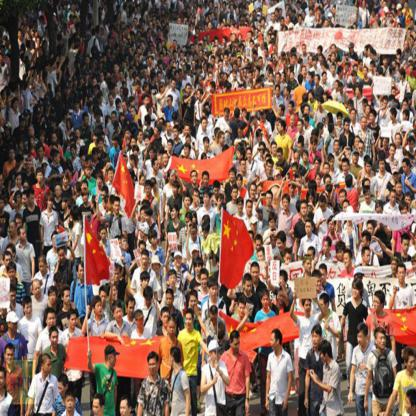face: (378, 333, 387, 349), (149, 359, 158, 375), (93, 400, 102, 416), (47, 316, 57, 330), (312, 332, 321, 347), (408, 357, 416, 373), (358, 331, 366, 347), (406, 399, 414, 415), (67, 397, 76, 411), (252, 268, 260, 283), (120, 404, 130, 416), (7, 351, 15, 366), (374, 298, 382, 312), (398, 269, 406, 283), (169, 323, 177, 337), (51, 334, 59, 348), (213, 348, 220, 363), (233, 340, 241, 353), (211, 287, 219, 300), (100, 293, 108, 306), (59, 385, 67, 398), (44, 361, 52, 374), (10, 319, 18, 332), (344, 255, 352, 268), (320, 300, 327, 314), (305, 301, 312, 315), (163, 313, 170, 327), (128, 303, 135, 317), (115, 308, 122, 322), (79, 266, 86, 280), (169, 275, 177, 287), (95, 303, 103, 315), (25, 304, 33, 316), (353, 285, 360, 298), (315, 278, 322, 291), (239, 304, 246, 317), (246, 282, 253, 295), (186, 316, 193, 329), (191, 298, 198, 311), (142, 256, 149, 269), (70, 316, 77, 329), (35, 284, 42, 297), (65, 292, 72, 305), (403, 241, 410, 254), (8, 270, 16, 281), (305, 260, 312, 272), (263, 295, 269, 309), (202, 276, 209, 288), (195, 263, 202, 275), (153, 261, 160, 273), (110, 355, 117, 367), (50, 292, 57, 304), (6, 258, 13, 270), (10, 293, 17, 305), (337, 249, 344, 261), (278, 240, 285, 252), (279, 277, 285, 290), (272, 337, 278, 350), (362, 238, 368, 251), (2, 304, 8, 317), (143, 280, 150, 291), (175, 255, 182, 266), (258, 254, 265, 265), (392, 261, 398, 273), (321, 271, 327, 283), (279, 293, 285, 305), (167, 295, 173, 307), (170, 355, 176, 367), (365, 252, 371, 264), (402, 206, 408, 218), (286, 255, 292, 267), (256, 241, 262, 253), (10, 224, 16, 236), (377, 207, 383, 219), (301, 206, 308, 216), (321, 353, 327, 364), (138, 317, 144, 328), (112, 289, 118, 300), (114, 271, 120, 282), (60, 253, 66, 264), (40, 263, 46, 274), (368, 226, 374, 237), (324, 244, 330, 255), (366, 191, 372, 202), (330, 221, 336, 232), (290, 186, 296, 197), (284, 200, 290, 211), (271, 236, 277, 247), (252, 222, 258, 233), (250, 187, 256, 198), (192, 230, 198, 241), (204, 195, 210, 206), (152, 236, 158, 247), (141, 246, 147, 257), (114, 202, 120, 213), (23, 196, 29, 207), (38, 172, 44, 183), (26, 161, 32, 172), (21, 231, 27, 242), (354, 153, 360, 164), (403, 162, 409, 173), (326, 180, 332, 191), (315, 160, 321, 171), (1, 374, 6, 387), (211, 317, 219, 325), (306, 224, 312, 234), (341, 194, 347, 204), (270, 219, 276, 229), (238, 202, 244, 212), (230, 172, 236, 182), (186, 220, 192, 230), (192, 174, 198, 184), (185, 198, 191, 208), (146, 186, 152, 196), (109, 172, 115, 182), (48, 198, 54, 208), (83, 193, 89, 203), (86, 166, 92, 176), (10, 150, 16, 160), (29, 128, 35, 138), (20, 118, 26, 128), (343, 164, 349, 174), (380, 162, 386, 172), (390, 148, 396, 158), (409, 141, 415, 151), (359, 146, 365, 156), (193, 250, 199, 260), (146, 296, 151, 307), (406, 197, 411, 208), (391, 194, 396, 205), (117, 240, 122, 251), (30, 195, 35, 206), (17, 221, 22, 232), (39, 149, 44, 160), (309, 251, 314, 262), (1, 200, 6, 211), (53, 237, 58, 248), (102, 231, 108, 240), (62, 200, 68, 209), (24, 185, 30, 194), (316, 177, 322, 186), (272, 145, 278, 154), (351, 112, 357, 121), (267, 195, 272, 205), (247, 205, 252, 215), (233, 190, 238, 200), (219, 200, 224, 210), (194, 193, 199, 203), (172, 209, 177, 219), (123, 240, 128, 250), (142, 213, 147, 223), (108, 201, 113, 211), (164, 156, 169, 166), (191, 215, 196, 225), (64, 176, 69, 186), (99, 141, 104, 151), (242, 162, 247, 172), (248, 152, 253, 162), (396, 136, 401, 146), (356, 140, 361, 150), (330, 159, 335, 169), (321, 204, 327, 212), (145, 214, 151, 222), (52, 136, 58, 144), (397, 185, 402, 194), (344, 205, 349, 214), (309, 197, 314, 206), (237, 178, 242, 187), (204, 177, 209, 186), (171, 174, 176, 183), (102, 192, 107, 201), (155, 163, 160, 172), (205, 230, 210, 239), (56, 188, 61, 197), (83, 184, 88, 193), (16, 196, 21, 205), (17, 178, 22, 187), (19, 141, 24, 150), (6, 128, 11, 137), (85, 117, 90, 126), (185, 147, 190, 156), (174, 129, 179, 138), (260, 146, 265, 155), (258, 133, 263, 142), (252, 116, 257, 125), (203, 121, 208, 130), (131, 110, 136, 119), (335, 143, 340, 152), (325, 166, 330, 175), (293, 169, 298, 178), (313, 142, 318, 151), (276, 174, 281, 183), (363, 120, 368, 129), (161, 83, 166, 92), (51, 121, 56, 130), (27, 36, 32, 45), (365, 107, 371, 114), (173, 186, 178, 194), (98, 178, 103, 186), (130, 159, 135, 167), (72, 149, 77, 157), (40, 134, 45, 142), (113, 139, 118, 147), (126, 131, 131, 139), (132, 141, 137, 149), (167, 124, 172, 132), (238, 151, 243, 159), (238, 129, 243, 137), (225, 113, 230, 121), (367, 164, 372, 172), (384, 140, 389, 148), (304, 154, 309, 162), (295, 157, 300, 165), (278, 153, 283, 161), (298, 123, 303, 131), (291, 118, 296, 126), (268, 164, 273, 172), (302, 119, 307, 127), (346, 123, 351, 131), (305, 108, 310, 116), (261, 113, 266, 121), (243, 111, 248, 119), (223, 85, 228, 93), (109, 97, 114, 105), (94, 135, 99, 143), (93, 80, 98, 88), (346, 149, 351, 157), (57, 155, 61, 164), (25, 114, 29, 123), (221, 136, 225, 145), (168, 98, 172, 107), (404, 104, 408, 113), (66, 86, 70, 95), (214, 189, 219, 196), (31, 139, 36, 146), (94, 153, 99, 160), (141, 179, 145, 187), (151, 151, 155, 159), (76, 131, 80, 139), (139, 134, 143, 142), (146, 140, 150, 148), (186, 128, 190, 136), (169, 143, 173, 151), (132, 100, 136, 108), (146, 99, 150, 107), (155, 128, 159, 136), (153, 184, 157, 192), (298, 145, 302, 153), (371, 114, 375, 122), (403, 114, 407, 122), (338, 117, 342, 125), (384, 101, 388, 109), (303, 47, 307, 55), (293, 57, 297, 65), (188, 86, 192, 94), (173, 82, 177, 90), (123, 104, 127, 112), (112, 115, 116, 123), (120, 73, 124, 81), (115, 65, 119, 73), (136, 78, 140, 86), (66, 113, 70, 121), (47, 103, 51, 111), (70, 81, 74, 89), (80, 77, 84, 85), (14, 102, 18, 110), (100, 74, 104, 82), (86, 57, 90, 65), (310, 94, 314, 102), (350, 104, 354, 112), (364, 104, 368, 112), (204, 114, 208, 122), (413, 262, 416, 272), (37, 111, 41, 118), (68, 122, 72, 129), (135, 151, 139, 158), (205, 142, 209, 149), (321, 127, 325, 134), (279, 108, 283, 115), (384, 59, 388, 66), (364, 70, 368, 77), (353, 75, 357, 82), (335, 84, 339, 91), (332, 67, 336, 74), (289, 106, 293, 113), (233, 73, 237, 80), (198, 92, 202, 99), (121, 116, 125, 123), (76, 102, 80, 109), (58, 91, 62, 98), (206, 107, 210, 114), (187, 140, 191, 146), (279, 124, 282, 132), (393, 62, 396, 70), (357, 89, 360, 97), (341, 70, 344, 78), (324, 75, 327, 83), (316, 78, 319, 86), (310, 58, 313, 66), (304, 69, 307, 77), (277, 89, 280, 97), (265, 50, 268, 58), (238, 59, 241, 67), (212, 59, 215, 67), (163, 49, 167, 55), (3, 91, 6, 99), (3, 49, 6, 57), (35, 23, 38, 31), (393, 91, 396, 98), (411, 67, 414, 74), (406, 43, 409, 50), (365, 49, 368, 56), (355, 68, 358, 75), (332, 56, 335, 63), (315, 59, 318, 66), (282, 75, 285, 82), (277, 76, 280, 83), (260, 60, 263, 67), (245, 70, 248, 77), (211, 86, 214, 93), (210, 75, 213, 82), (222, 75, 225, 82), (224, 40, 227, 47), (320, 57, 323, 64), (177, 73, 180, 80), (166, 77, 169, 84), (147, 86, 150, 93), (159, 75, 162, 82), (115, 87, 118, 94), (121, 90, 124, 97), (100, 97, 103, 104), (98, 115, 101, 122), (19, 32, 22, 39), (37, 39, 40, 46), (96, 89, 99, 96), (72, 41, 75, 48), (397, 54, 400, 61), (324, 97, 327, 104), (411, 38, 414, 45), (287, 6, 290, 13), (213, 49, 216, 56), (391, 114, 394, 120), (401, 74, 404, 80), (393, 68, 396, 74), (396, 66, 399, 72), (372, 66, 375, 72), (361, 64, 364, 70), (340, 89, 343, 95), (350, 47, 353, 53), (310, 77, 313, 83), (291, 75, 294, 81), (285, 90, 288, 96), (270, 76, 273, 82), (256, 70, 259, 76), (250, 74, 253, 80), (235, 66, 238, 72), (245, 61, 248, 67), (225, 57, 228, 63), (204, 67, 207, 73), (193, 63, 196, 69), (200, 52, 203, 58), (251, 43, 254, 49), (155, 76, 158, 82), (145, 71, 148, 77), (138, 86, 141, 92), (119, 102, 122, 108), (174, 71, 177, 77), (175, 54, 178, 60), (181, 55, 184, 61), (161, 56, 164, 62), (145, 120, 148, 126), (75, 80, 78, 86), (86, 74, 89, 80), (329, 16, 332, 22), (326, 22, 329, 28), (300, 17, 303, 23), (273, 16, 276, 22), (310, 1, 313, 7), (372, 11, 375, 17), (363, 3, 366, 9), (346, 66, 349, 72), (40, 49, 43, 55), (209, 24, 212, 30), (236, 42, 239, 48), (174, 42, 177, 48), (163, 42, 166, 48), (127, 57, 130, 63), (151, 44, 154, 50), (143, 23, 146, 29), (158, 20, 161, 26), (188, 70, 191, 76), (409, 31, 412, 37), (384, 4, 387, 10), (254, 54, 257, 60), (284, 63, 287, 69), (190, 16, 193, 22), (218, 25, 221, 31), (180, 73, 183, 79), (149, 109, 152, 114), (372, 55, 375, 60), (368, 50, 371, 55), (333, 47, 336, 52), (318, 50, 321, 55), (200, 79, 203, 84), (220, 63, 223, 68), (197, 69, 200, 74), (191, 47, 194, 52), (195, 56, 198, 61), (216, 41, 219, 46), (130, 71, 133, 76), (160, 66, 163, 71), (187, 55, 190, 60), (124, 85, 127, 90), (4, 39, 7, 44), (105, 57, 108, 62), (318, 10, 321, 15), (302, 13, 305, 18), (287, 18, 290, 23), (283, 28, 286, 33), (310, 11, 313, 16), (391, 15, 394, 20), (333, 9, 336, 14), (111, 36, 114, 41), (253, 14, 256, 19), (262, 21, 265, 26), (249, 34, 252, 39), (239, 37, 242, 42), (233, 36, 236, 41), (237, 9, 240, 14), (223, 5, 226, 10), (210, 4, 213, 9), (206, 2, 209, 7), (209, 16, 212, 21), (179, 20, 182, 25), (108, 50, 111, 55), (149, 53, 152, 58), (142, 44, 145, 49), (134, 45, 137, 50), (135, 21, 138, 26), (132, 34, 135, 39), (158, 30, 161, 35), (149, 31, 152, 36), (151, 25, 154, 30), (319, 101, 322, 106), (411, 22, 414, 27), (398, 11, 401, 16), (293, 12, 296, 17), (261, 44, 264, 49), (200, 47, 203, 52), (209, 68, 211, 74), (179, 49, 181, 55), (24, 20, 27, 24), (405, 4, 408, 8), (231, 7, 234, 11), (199, 8, 202, 12), (212, 15, 215, 19), (148, 17, 151, 21), (327, 117, 329, 123), (414, 33, 416, 39), (247, 3, 249, 9), (222, 23, 224, 29), (27, 28, 29, 33), (282, 21, 284, 26), (276, 12, 278, 17), (280, 12, 282, 17), (208, 37, 210, 42), (207, 18, 209, 23), (205, 27, 207, 32), (154, 19, 156, 24), (298, 4, 300, 9), (195, 10, 197, 15), (150, 60, 152, 64), (216, 10, 218, 14)
